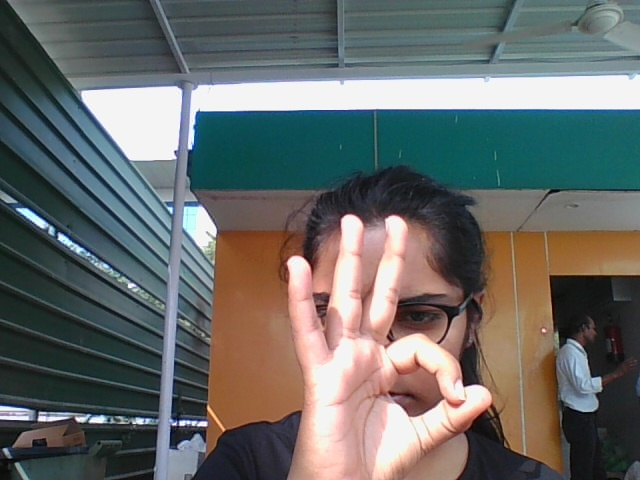ok: (269, 212, 513, 457)
